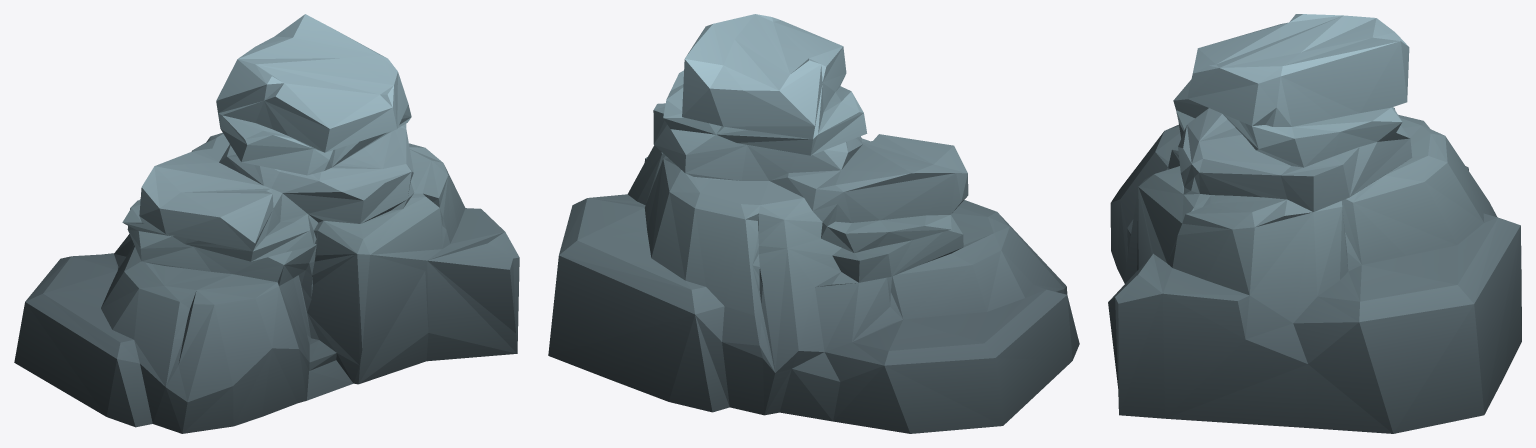
Rendered from stone large gray blue 5.fbx.
3 views of the same model, side by side, from view 1: azimuth 30°, elevation 25°; view 2: azimuth 150°, elevation 25°; view 3: azimuth 270°, elevation 25° (orthographic). The views are drawn at different scales.
Visible parts, largest first — view 1: stone large gray blue 5; view 2: stone large gray blue 5; view 3: stone large gray blue 5.
Part boxes in pixels (box(x1,y1,x2,y2)): stone large gray blue 5: box(14, 14, 519, 433); stone large gray blue 5: box(548, 14, 1079, 433); stone large gray blue 5: box(1108, 14, 1521, 433).
Size of the model in its own units: 1474 by 922 by 1075.
